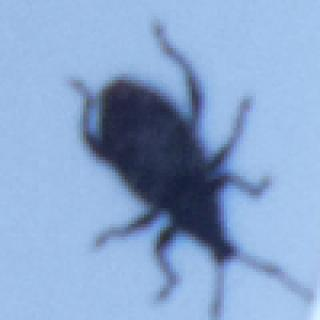bvw: (67, 20, 314, 318)
